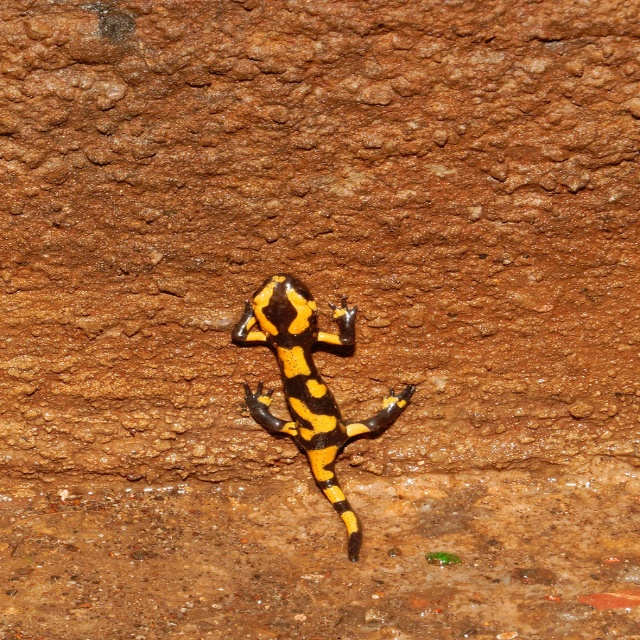Lizard: (232, 274, 414, 559)
